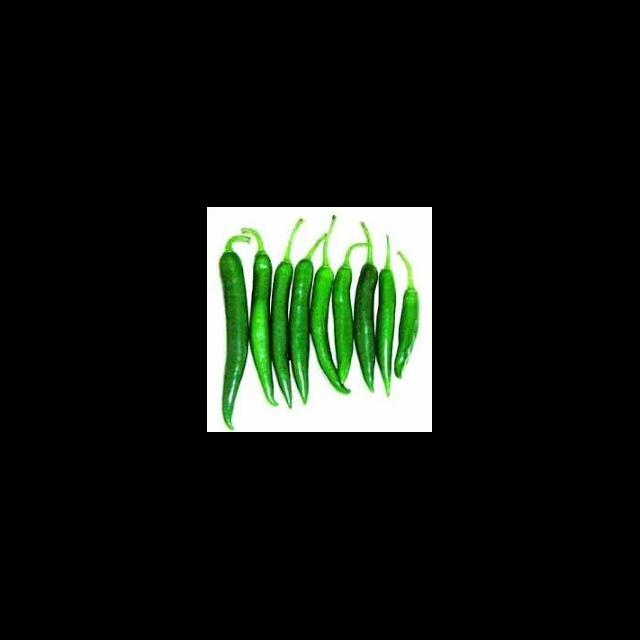chili_pepper: (308, 264, 354, 394), (218, 246, 250, 412), (352, 264, 378, 392), (270, 256, 292, 402), (394, 286, 421, 380)
